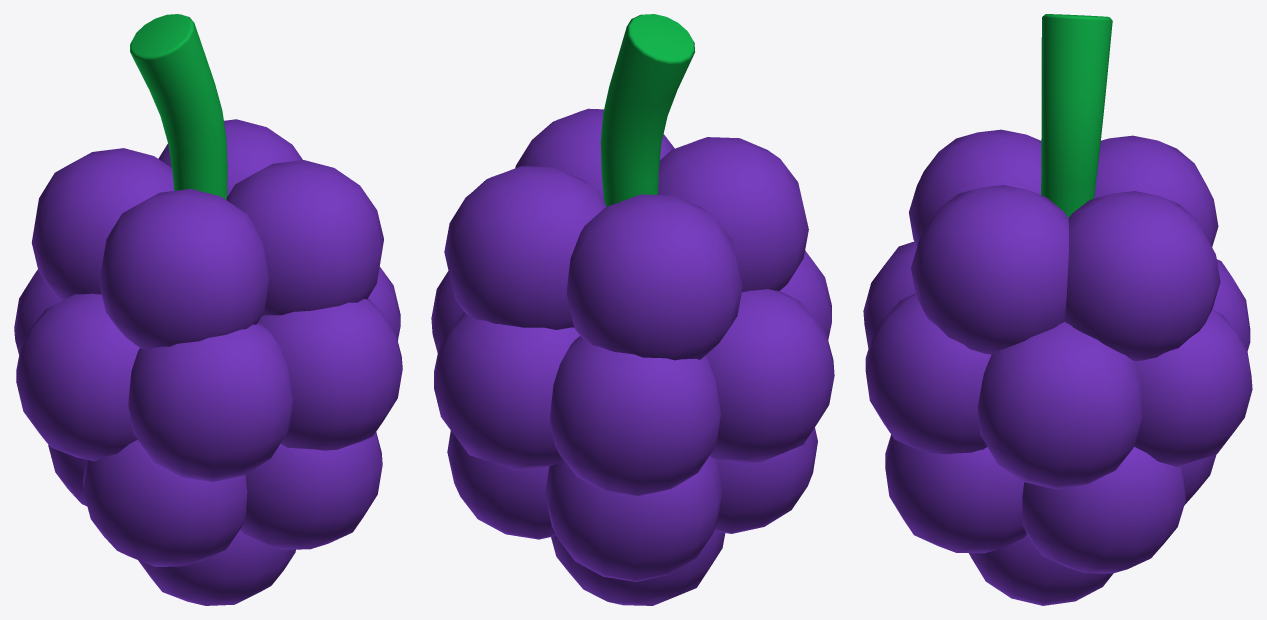
Rendered from Store_19_Grape_1.glb.
3 renders of one model, left to right at view 1: azimuth 30°, elevation 25°; view 2: azimuth 150°, elevation 25°; view 3: azimuth 270°, elevation 25°, orthographic. The views are drawn at different scales.
Visible parts, largest first — view 1: Store_19_Grape_1; view 2: Store_19_Grape_1; view 3: Store_19_Grape_1.
Boxes of the visible parts, x1=… form: Store_19_Grape_1: x1=14, y1=14, x2=402, y2=605; Store_19_Grape_1: x1=431, y1=14, x2=834, y2=605; Store_19_Grape_1: x1=863, y1=14, x2=1252, y2=605.
Size of the model in its own units: 0.3758 by 0.568 by 0.3489.
Materials: 1 (1 with a texture image).
